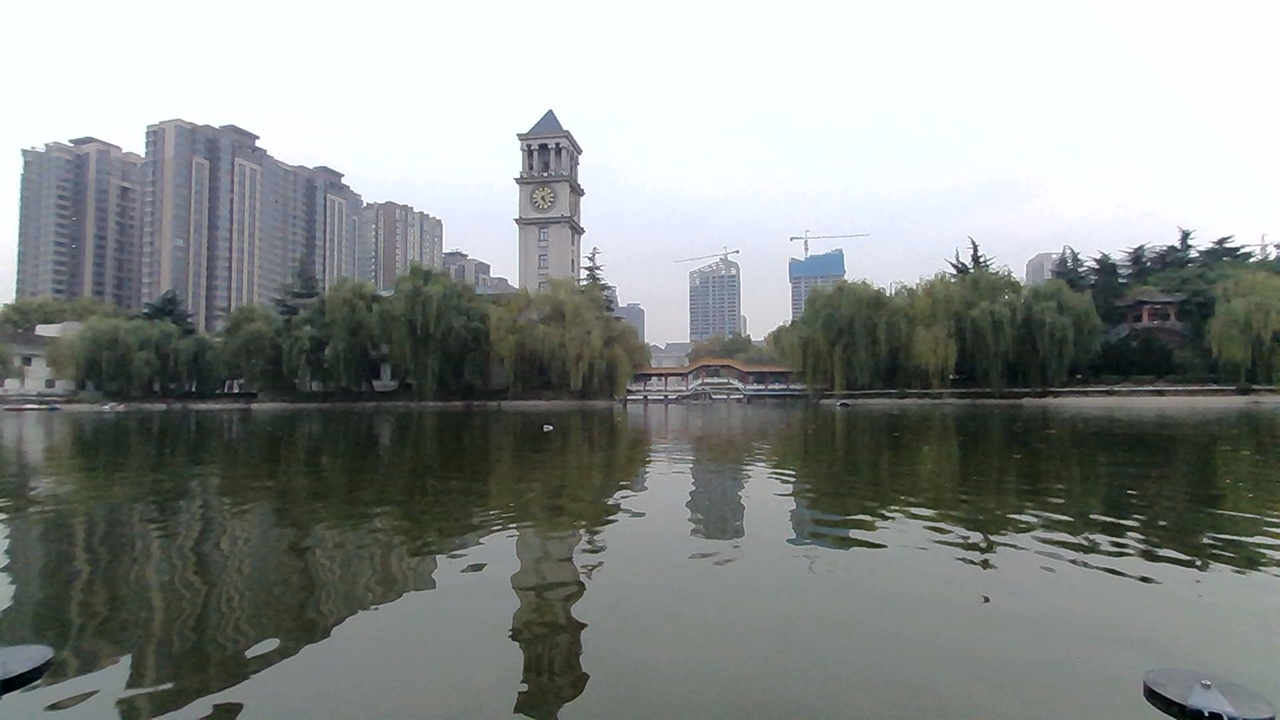bottle: (528, 417, 559, 438)
